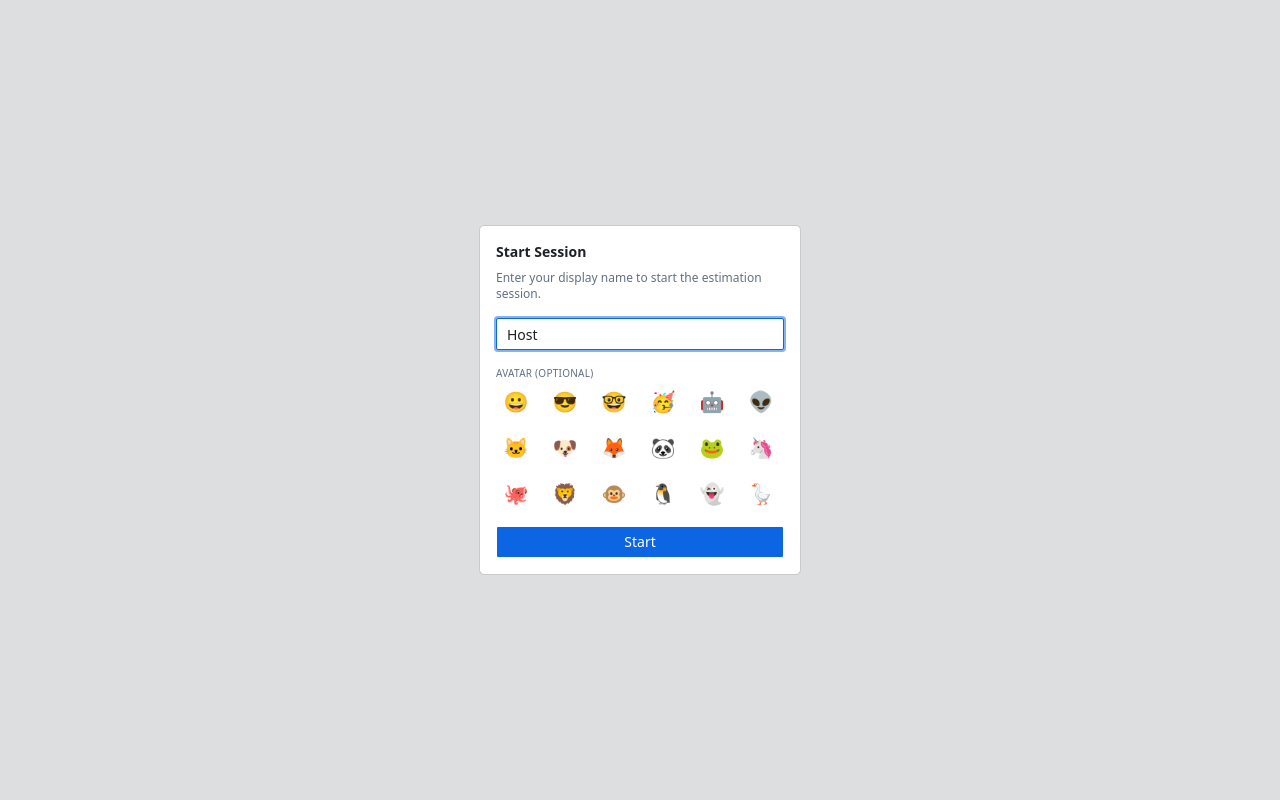
Test: RoomClient – Jira header › shows 'Disconnect Jira' button when Jira is connected
Click the button "Start" at (640, 542), box x1=496 y1=526 x2=784 y2=558
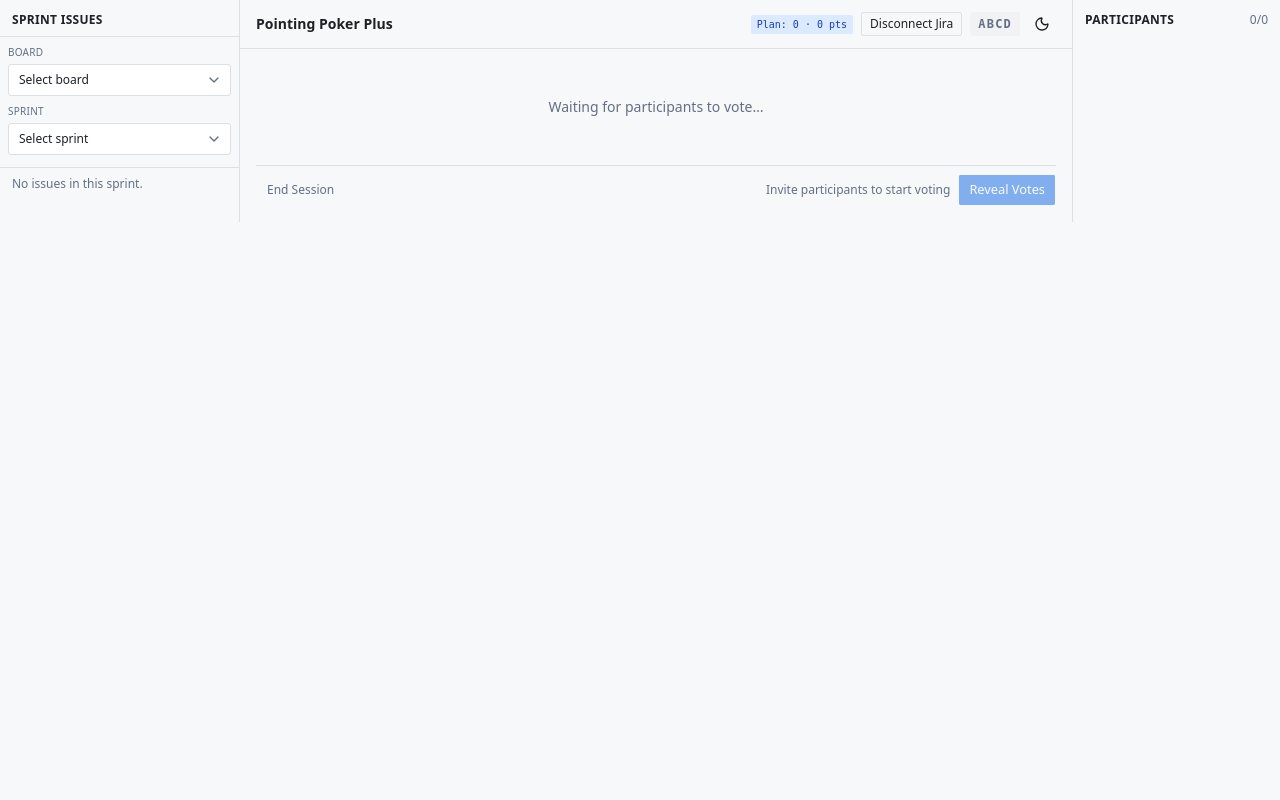
Expected: the button "Disconnect Jira" is shown, x1=861 y1=12 x2=962 y2=36
